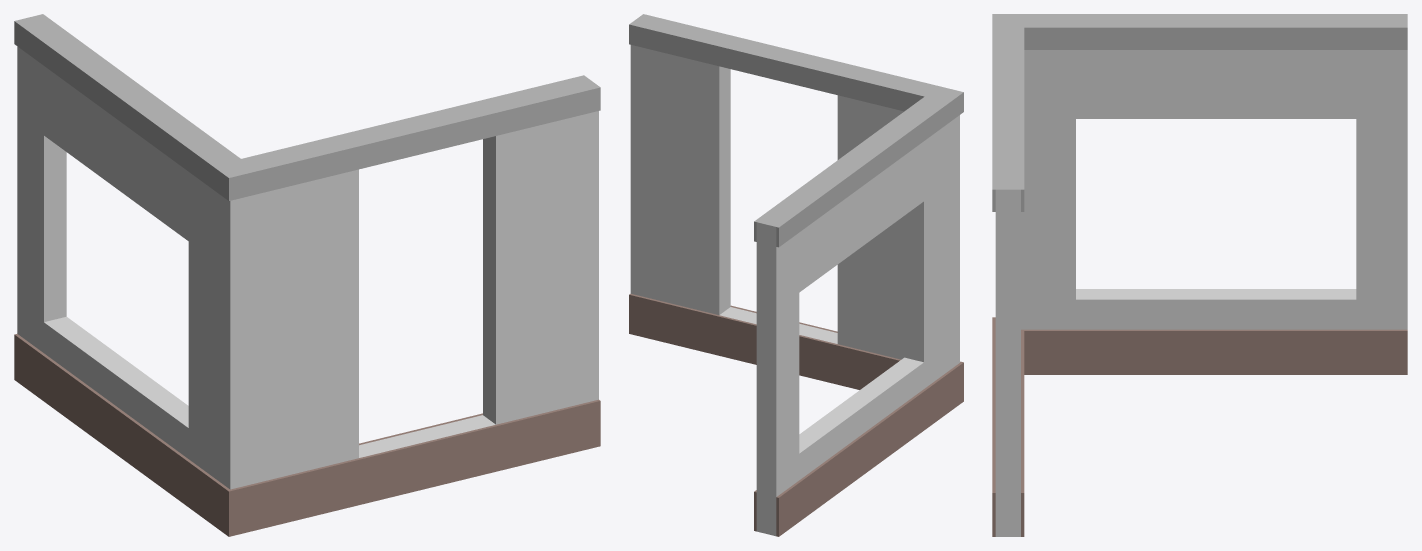
The model's file is Wall06-05.fbx.
3 views of the same model, side by side, from view 1: azimuth 30°, elevation 25°; view 2: azimuth 150°, elevation 25°; view 3: azimuth 270°, elevation 25° (orthographic). The views are drawn at different scales.
Parts seen in each view (by area): view 1: Wall06-05; view 2: Wall06-05; view 3: Wall06-05.
Part boxes in pixels (x1,y1,x2,y2): Wall06-05: (14,14,600,536); Wall06-05: (629,14,963,536); Wall06-05: (992,14,1407,536).
Bounding box in the file's own units: 3.25 × 3.25 × 3.
